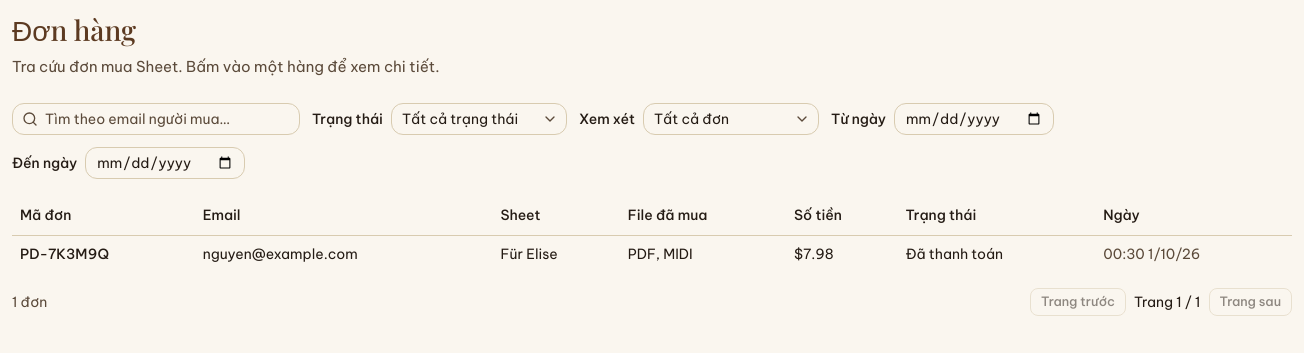
Trang /orders — bảng › khoảng ngày sai thì báo lỗi và không gọi API với khoảng đó
Expected: the row "PD-7K3M9Q" is shown, [12,235,1292,272]
Type "2026-10-05" into the date field labelled "Từ ngày" at (974, 119), box [894,103,1054,135]
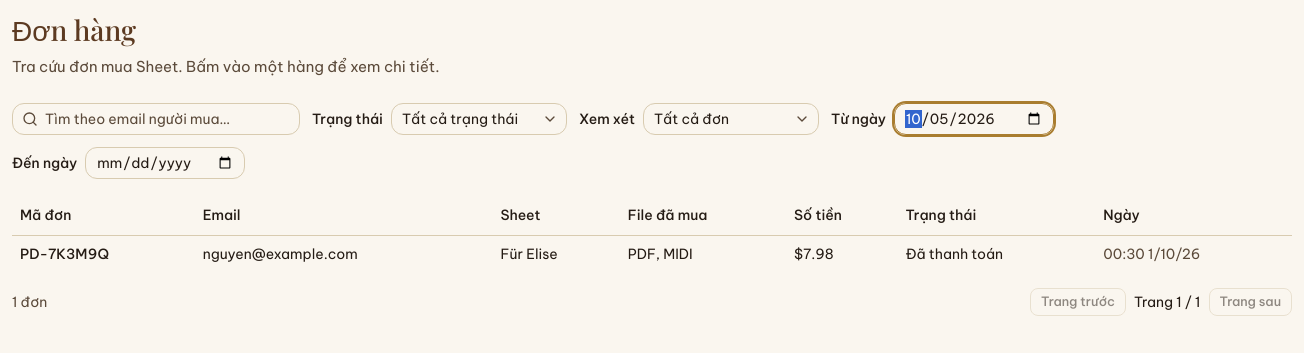
Type "2026-10-01" into the date field labelled "Đến ngày" at (165, 163), box [85,147,245,179]
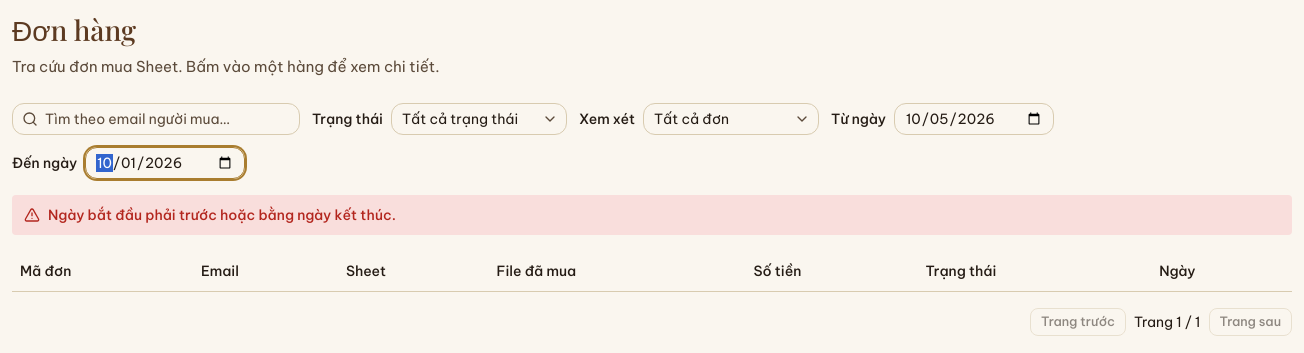
Expected: the message reads "Ngày bắt đầu phải trước hoặc bằng ngày kết thúc.", [48,206,396,224]
